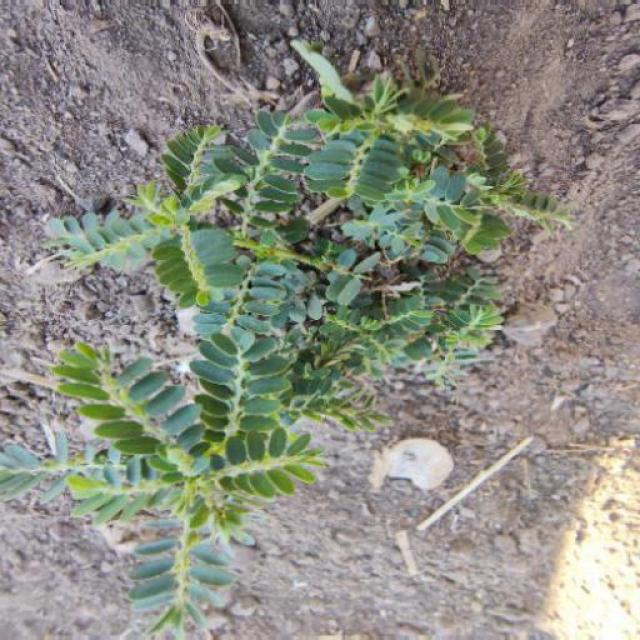weed: (20, 76, 525, 640)
